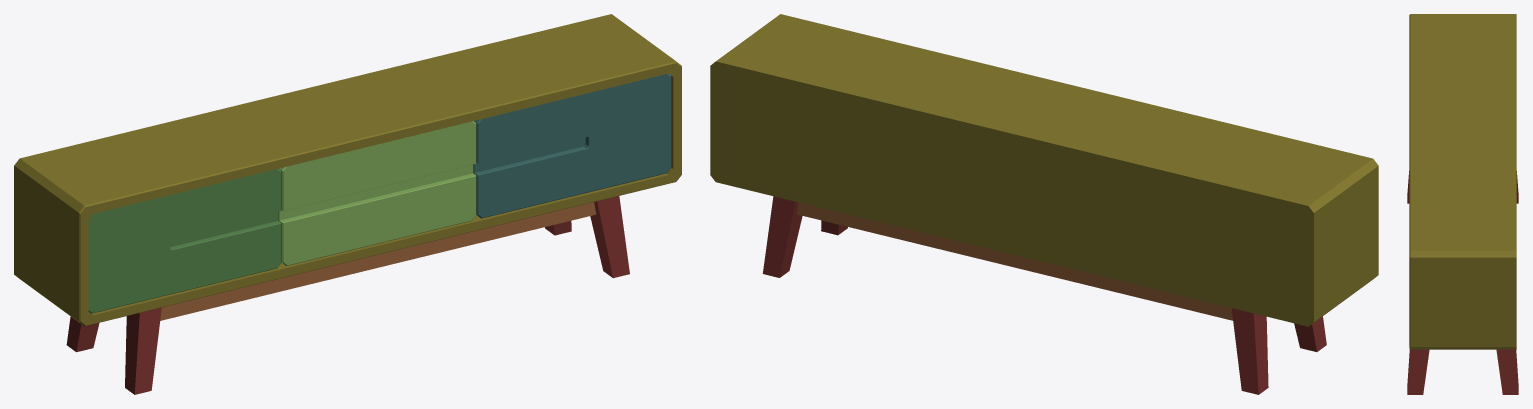
File: tymbaTELEK.fbx
3 renders of one model, left to right at view 1: azimuth 30°, elevation 25°; view 2: azimuth 150°, elevation 25°; view 3: azimuth 270°, elevation 25°, orthographic. The views are drawn at different scales.
Parts seen in each view (by area): view 1: Cube.009, Cube.008, Cube.007, Cube.006, Cube.011, Cube.010; view 2: Cube.009, Cube.010, Cube.011; view 3: Cube.009, Cube.010.
Part boxes in pixels (x1,y1,x2,y2): Cube.009: (14,14,681,326); Cube.008: (473,73,671,218); Cube.007: (278,121,476,265); Cube.006: (88,168,281,313); Cube.011: (160,202,596,320); Cube.010: (66,196,629,394); Cube.009: (710,14,1378,326); Cube.010: (762,196,1326,394); Cube.011: (796,202,1232,320); Cube.009: (1409,14,1516,349); Cube.010: (1407,171,1518,394).
Bounding box in the file's own units: 242 × 76.41 × 47.27.
